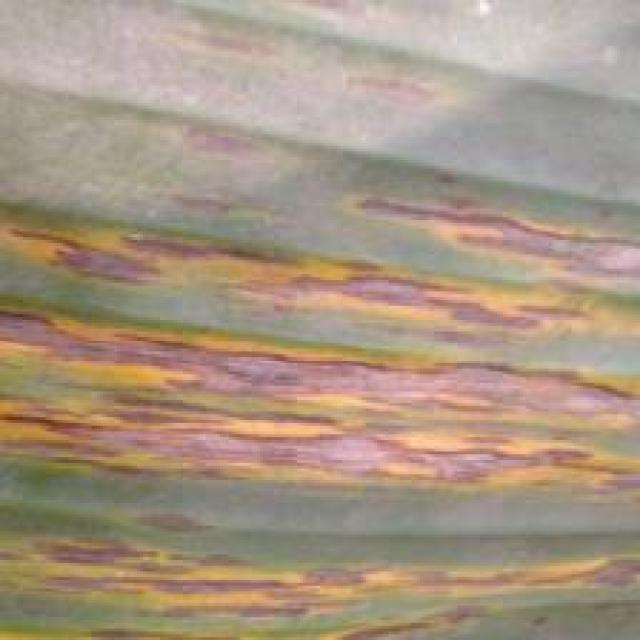Early_leaf_spot: (0, 183, 640, 497), (0, 488, 640, 640), (341, 184, 640, 278), (326, 46, 444, 125), (172, 102, 270, 174), (157, 7, 279, 64), (102, 489, 228, 544), (271, 0, 366, 26)
